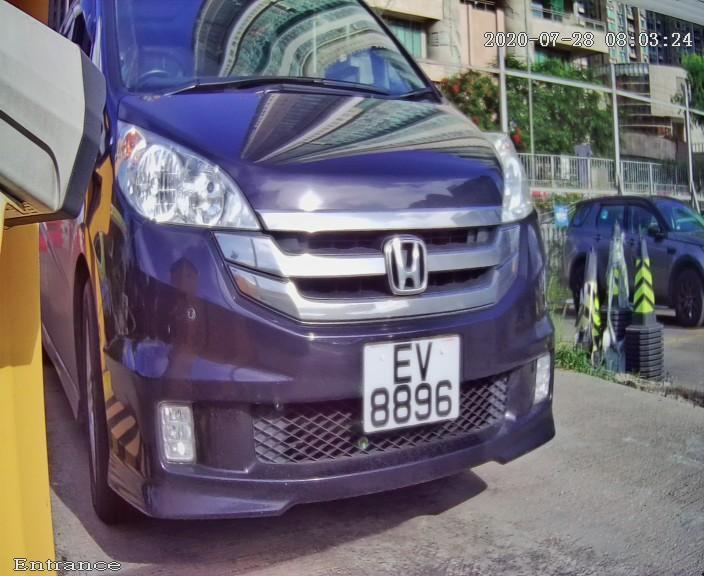privatecar: (19, 13, 623, 564)
